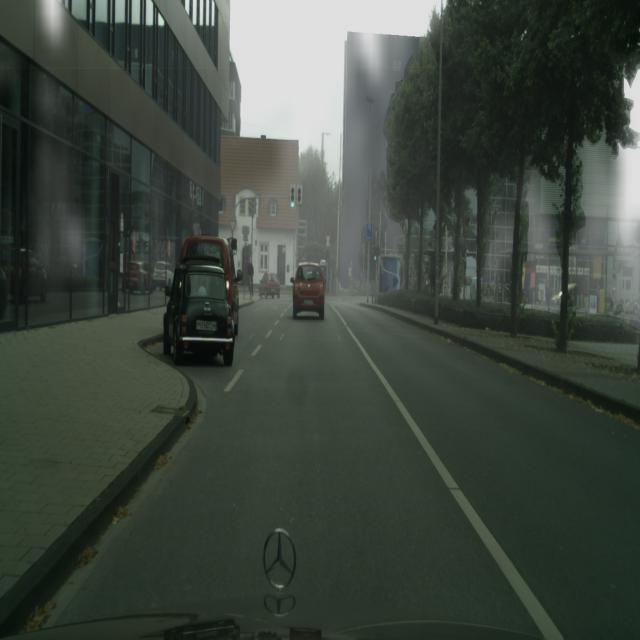person: (246, 256, 254, 301)
truck: (163, 261, 236, 367), (0, 246, 48, 304), (292, 261, 325, 319), (122, 258, 150, 294), (152, 261, 173, 292), (259, 271, 281, 299)
